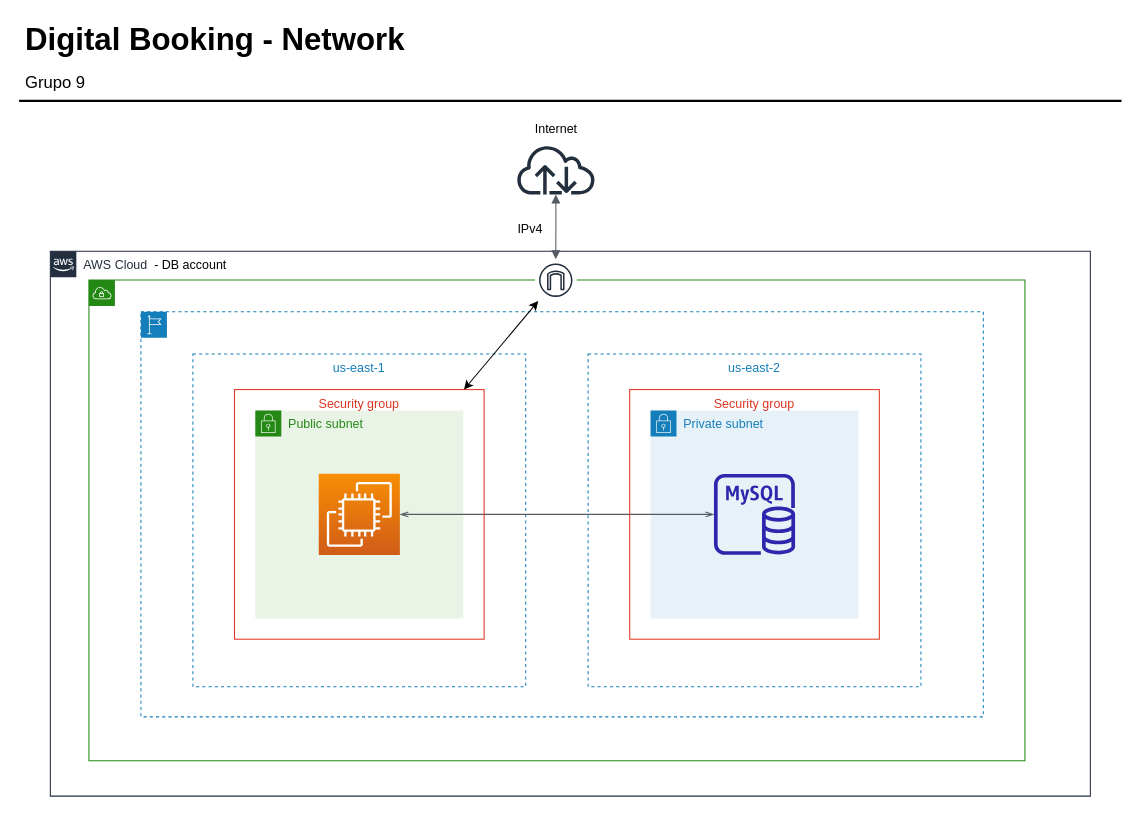
This 1140x814 diagram has some shape labels left out. Each missing label, with the box of its shape:
Internet gateway: (534, 258, 577, 301)
Region: (140, 311, 983, 717)
VPC - DB: (88, 279, 1025, 761)
